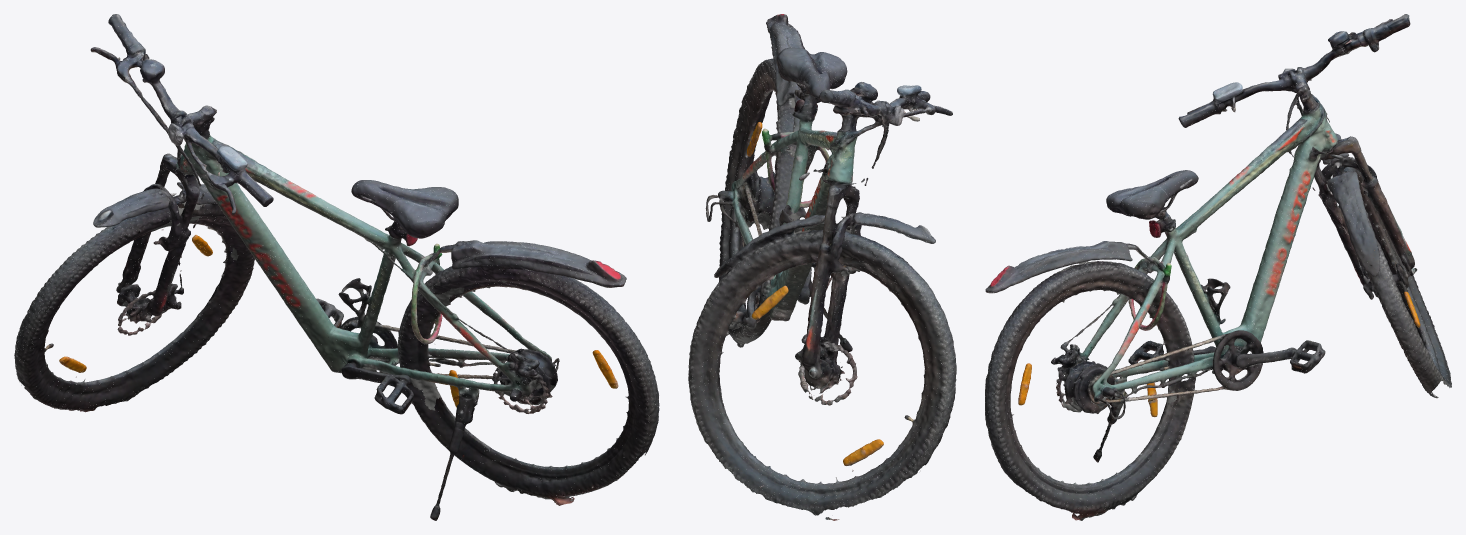
The model's file is bycycle.glb.
3 views of the same model, side by side, from view 1: azimuth 30°, elevation 25°; view 2: azimuth 150°, elevation 25°; view 3: azimuth 270°, elevation 25° (orthographic). The views are drawn at different scales.
Size of the model in its own units: 2.28 by 2.17 by 2.37.
129 materials, 129 textured.
